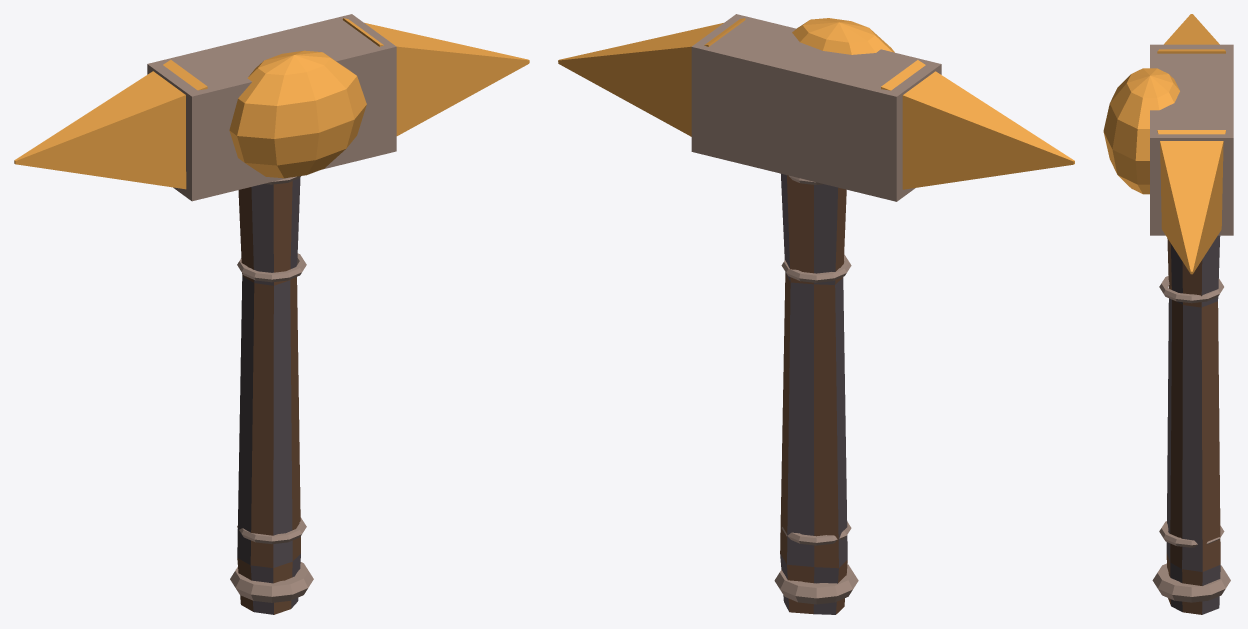
The model's file is BH_PICK_P23_Picareta_Rei_Abobora_V01.glb.
The picture shows the model from 3 angles, left to right: view 1: azimuth 30°, elevation 25°; view 2: azimuth 150°, elevation 25°; view 3: azimuth 270°, elevation 25°; orthographic projection. The views are drawn at different scales.
Parts seen in each view (by area): view 1: Handle | shaped shaft.001, Head | main crossbar.001, Core | carved harvest lantern.001, Head | mining tooth L.001, Head | mining tooth R.001, Handle | pommel.001, Handle | binding 3.001; view 2: Head | main crossbar.001, Handle | shaped shaft.001, Head | mining tooth L.001, Head | mining tooth R.001, Core | carved harvest lantern.001, Handle | pommel.001, Handle | binding 3.001; view 3: Handle | shaped shaft.001, Head | main crossbar.001, Head | mining tooth R.001, Core | carved harvest lantern.001, Handle | pommel.001, Head | mining tooth L.001, Handle | binding 3.001, Handle | binding 1.001.
Part boxes in pixels (<box>): Handle | shaped shaft.001: <box>237,178,300,614</box>; Head | main crossbar.001: <box>147,14,396,201</box>; Core | carved harvest lantern.001: <box>229,50,366,178</box>; Head | mining tooth L.001: <box>14,60,207,189</box>; Head | mining tooth R.001: <box>342,18,529,135</box>; Handle | pommel.001: <box>230,562,313,602</box>; Handle | binding 3.001: <box>237,253,306,282</box>; Head | main crossbar.001: <box>691,14,941,201</box>; Handle | shaped shaft.001: <box>780,173,847,614</box>; Head | mining tooth L.001: <box>881,60,1074,189</box>; Head | mining tooth R.001: <box>558,18,745,136</box>; Core | carved harvest lantern.001: <box>792,18,894,54</box>; Handle | pommel.001: <box>774,564,858,604</box>; Handle | binding 3.001: <box>781,255,851,282</box>; Handle | shaped shaft.001: <box>1166,235,1220,614</box>; Head | main crossbar.001: <box>1150,44,1233,235</box>; Head | mining tooth R.001: <box>1157,130,1225,274</box>; Core | carved harvest lantern.001: <box>1103,68,1179,194</box>; Handle | pommel.001: <box>1152,563,1230,602</box>; Head | mining tooth L.001: <box>1157,14,1225,53</box>; Handle | binding 3.001: <box>1159,276,1223,303</box>; Handle | binding 1.001: <box>1159,521,1224,547</box>.
Size of the model in its own units: 2.26 by 2.37 by 0.53.
